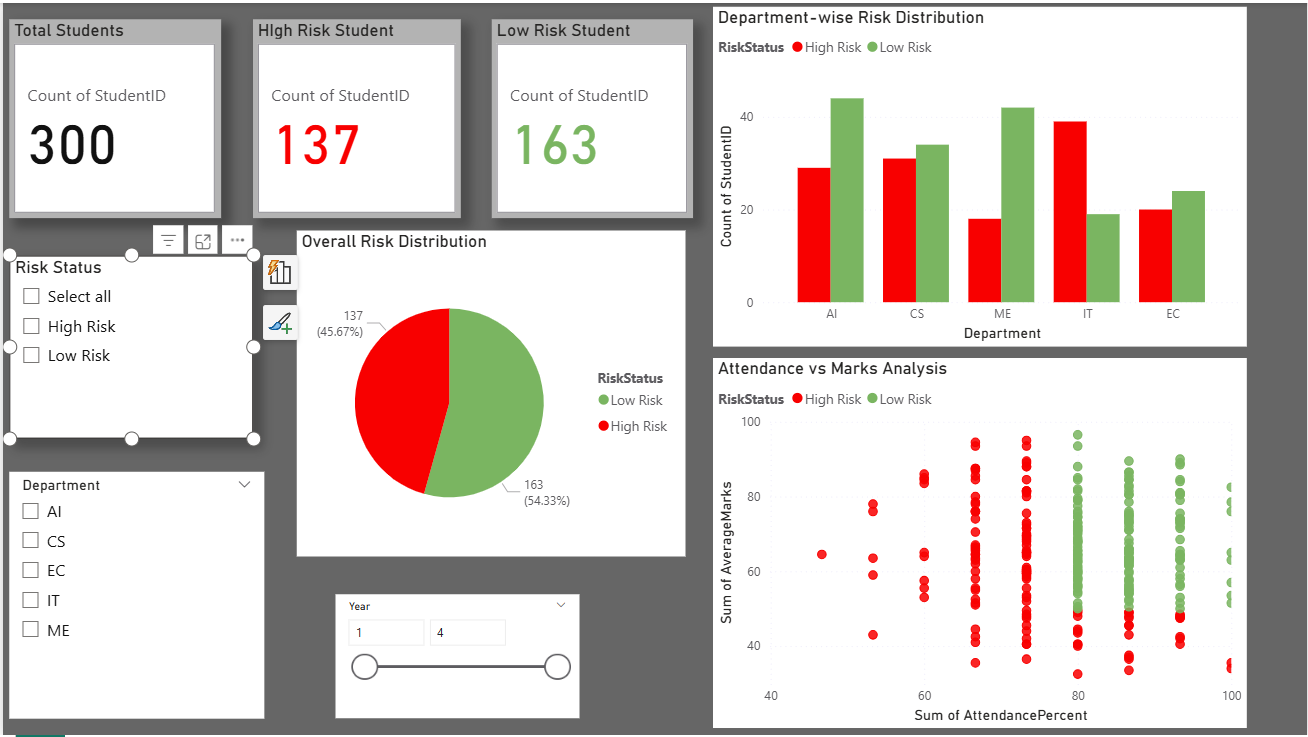

The dashboard page shown, as its layout file describes it:
{"tool":"powerbi","page":{"name":"Page 1","canvas":[1280,720],"ordinal":0},"visuals":[{"type":"cardVisual","title":"Total Students","fields":{"Data":["CountNonNull(college_dashboard.StudentID)"]},"box":[6.2,16.2,207.7,195.3],"z":0},{"type":"cardVisual","title":"HIgh Risk Student","fields":{"Data":["CountNonNull(college_dashboard.StudentID)"]},"box":[245.1,16.2,204,195.3],"z":1000},{"type":"cardVisual","title":"Low Risk Student","fields":{"Data":["CountNonNull(college_dashboard.StudentID)"]},"box":[480.2,16.2,197.8,195.3],"z":2000},{"type":"pieChart","title":"Overall Risk Distribution","fields":{"Category":["college_dashboard.RiskStatus"],"Y":["CountNonNull(college_dashboard.StudentID)"]},"box":[288.6,223.9,381.9,319.7],"z":3000},{"type":"clusteredColumnChart","title":"Department-wise Risk Distribution","fields":{"Category":["college_dashboard.Department"],"Y":["CountNonNull(college_dashboard.StudentID)"],"Series":["college_dashboard.RiskStatus"]},"box":[696.9,3.7,523.9,333.7],"z":4000},{"type":"scatterChart","title":"Attendance vs Marks Analysis","fields":{"X":["Sum(college_dashboard.AttendancePercent)"],"Y":["Sum(college_dashboard.AverageMarks)"],"Series":["college_dashboard.RiskStatus"],"Category":["college_dashboard.StudentID"]},"box":[696.9,348.5,523.9,363.2],"z":5000},{"type":"slicer","fields":{"Values":["college_dashboard.Department"]},"box":[6.2,460.3,250,242.6],"z":6000},{"type":"slicer","title":"Risk Status","fields":{"Values":["college_dashboard.RiskStatus"]},"box":[6.2,247.5,238.8,180.4],"z":7000},{"type":"slicer","fields":{"Values":["college_dashboard.Year"]},"box":[325.9,580.9,238.8,120.7],"z":8000}]}

Visuals, with their boxes in screenshot pixels (x1, y1, x2, y2):
"Total Students" cardVisual: 13,16,222,213
"HIgh Risk Student" cardVisual: 254,16,459,213
"Low Risk Student" cardVisual: 491,16,690,213
"Overall Risk Distribution" pieChart: 298,226,683,548
"Department-wise Risk Distribution" clusteredColumnChart: 709,4,1237,340
"Attendance vs Marks Analysis" scatterChart: 709,351,1237,717
slicer - college_dashboard.Department: 13,464,265,708
"Risk Status" slicer: 13,249,254,431
slicer - college_dashboard.Year: 335,585,576,707
